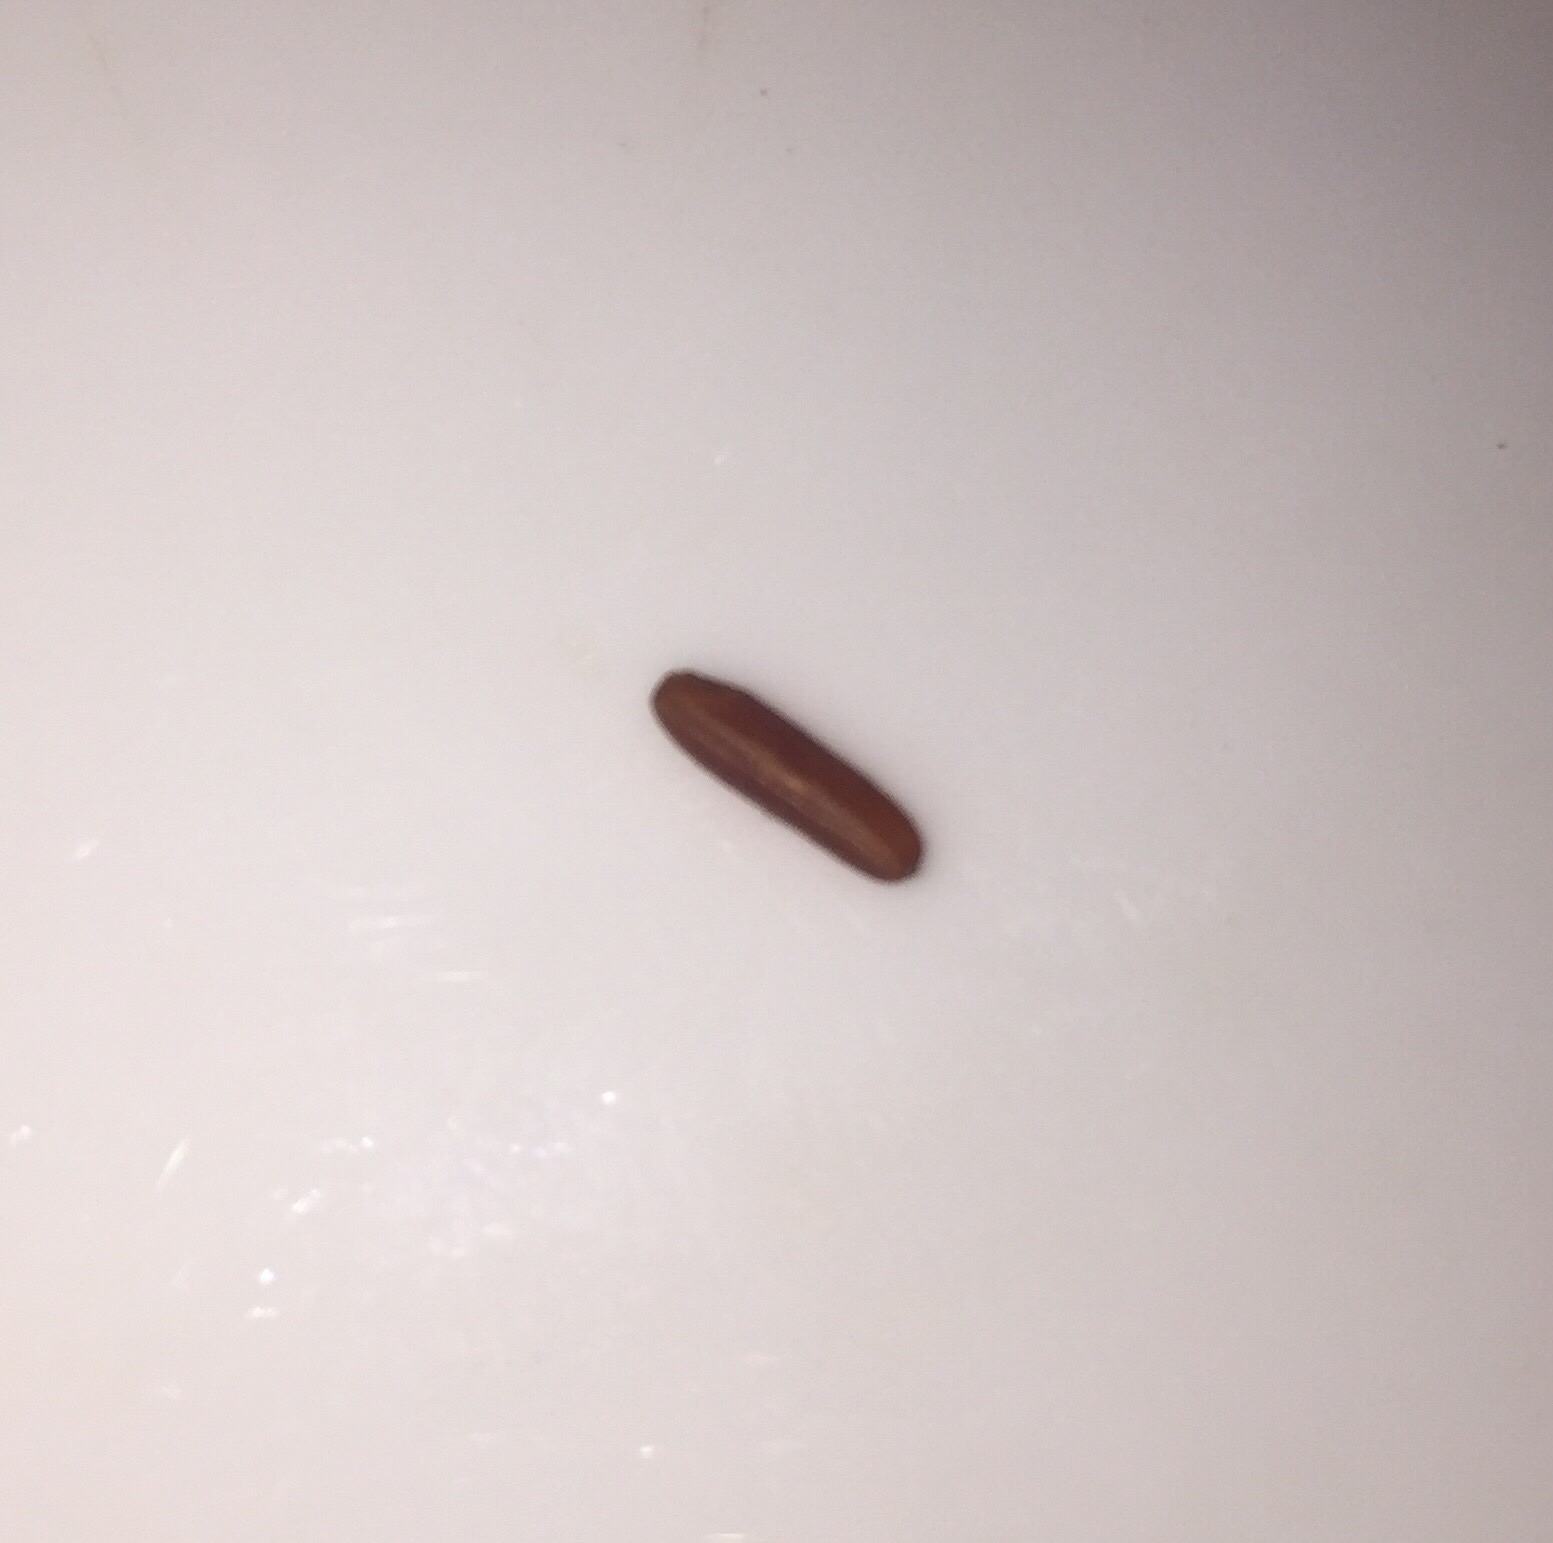Gao Huyet Rong: (622, 627, 941, 906)
